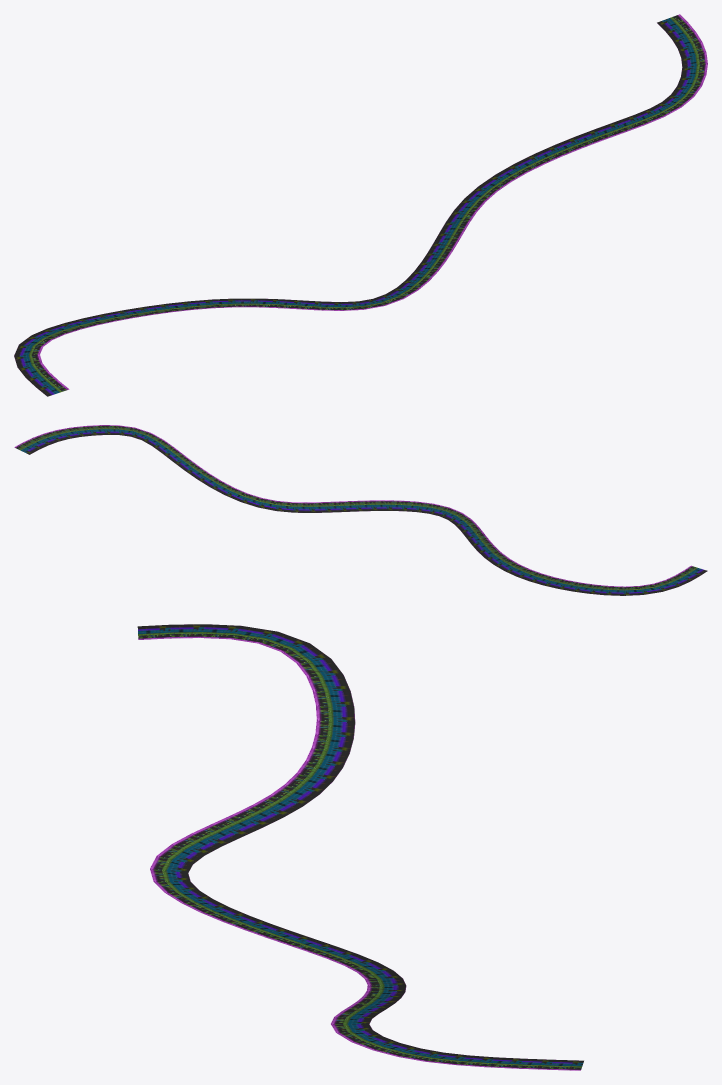
The model's file is invisible.gltf.
3 views of the same model, one above another, from view 1: azimuth 30°, elevation 25°; view 2: azimuth 150°, elevation 25°; view 3: azimuth 270°, elevation 25° (orthographic). The views are drawn at different scales.
Visible parts, largest first — view 1: Plane; view 2: Plane; view 3: Plane.
Part boxes in pixels (x1=…): Plane: x1=14, y1=14, x2=707, y2=396; Plane: x1=14, y1=425, x2=707, y2=595; Plane: x1=137, y1=624, x2=583, y2=1070.
Size of the model in its own units: 189 by 19.99 by 62.5.
Materials: 1 (1 with a texture image).
